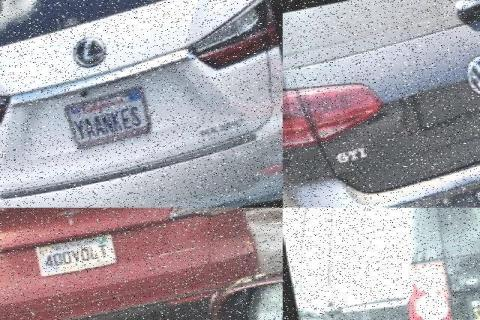LicensePlate: (64, 94, 160, 150), (37, 236, 119, 279)
